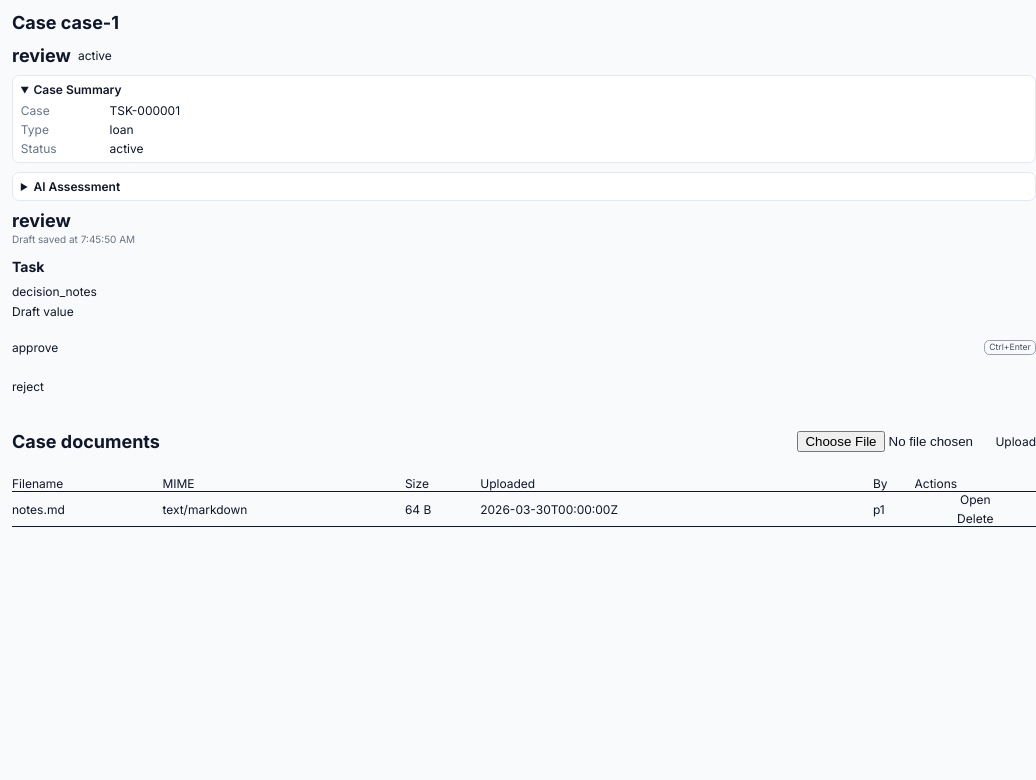
Test case: CaseView document panel › sanitizes markdown links with unsafe protocols
The image size is (1036, 780).
Click the button "Open" at (975,499), box [914, 492, 1035, 507]
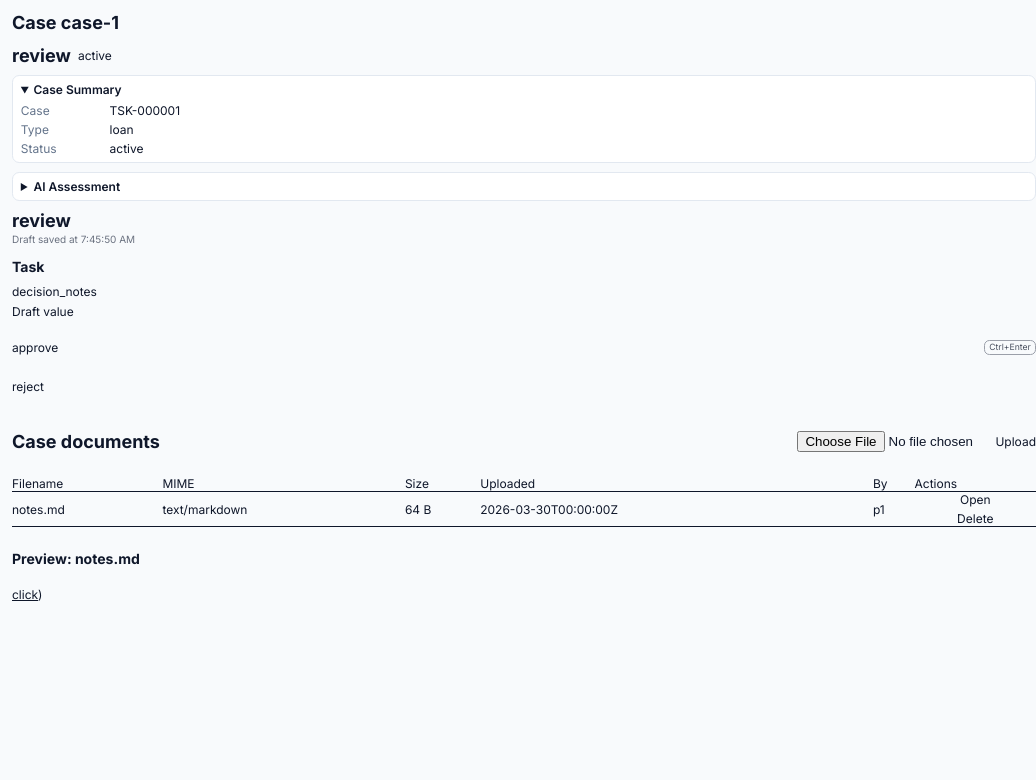
Expected: the link "click" is shown, [12, 588, 38, 602]
